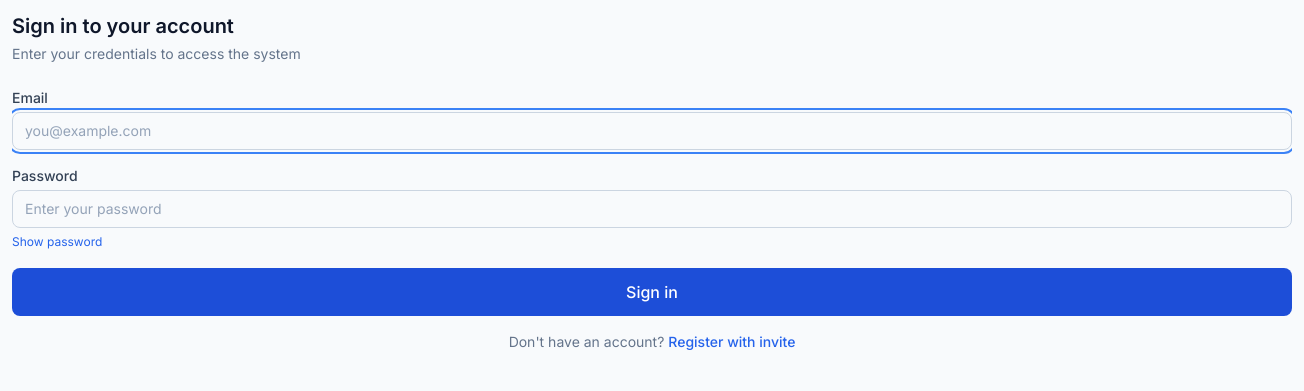
Test: LoginPage › shows validation error for invalid email
Type "not-an-email" into the field labelled "Email" at (652, 131), box [12,112,1292,150]
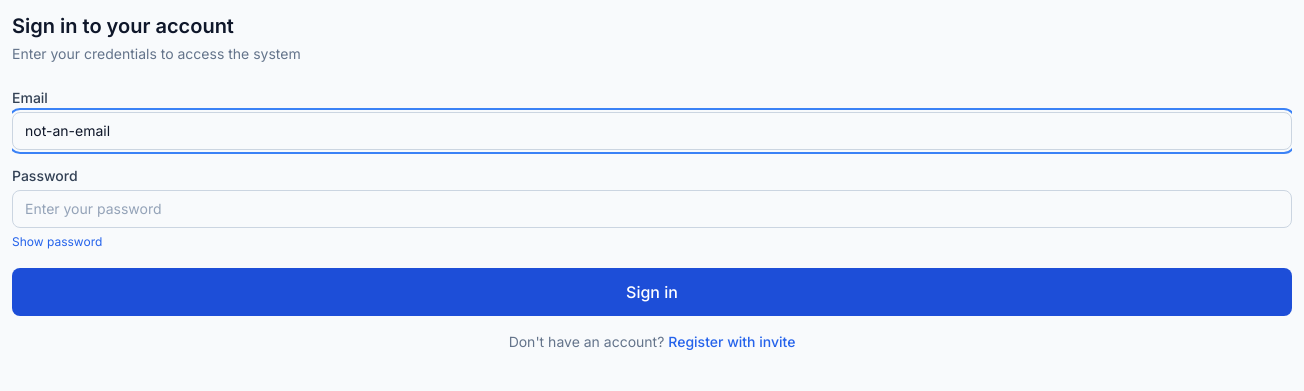
Type "Password1" into the password field labelled "Password" at (652, 209), box [12,190,1292,228]
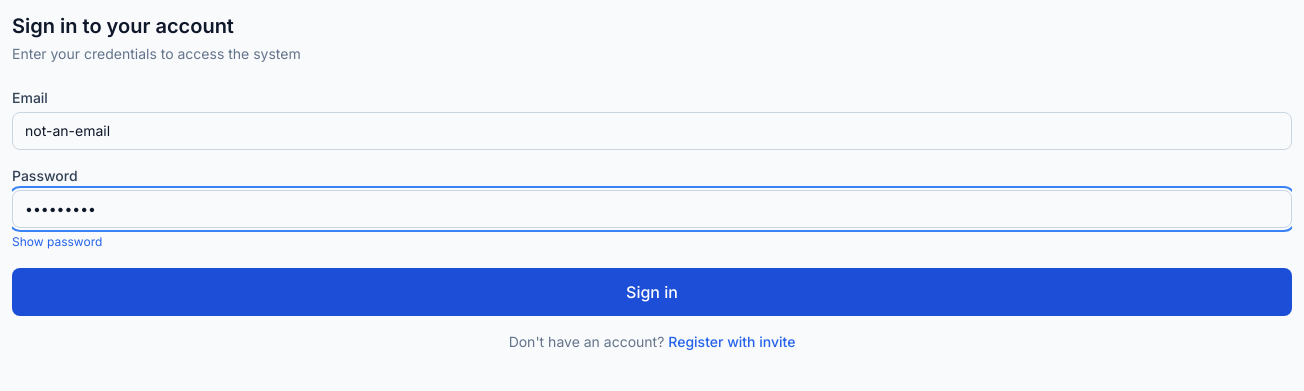
Click the button "Sign in" at (652, 292), box [12,268,1292,316]
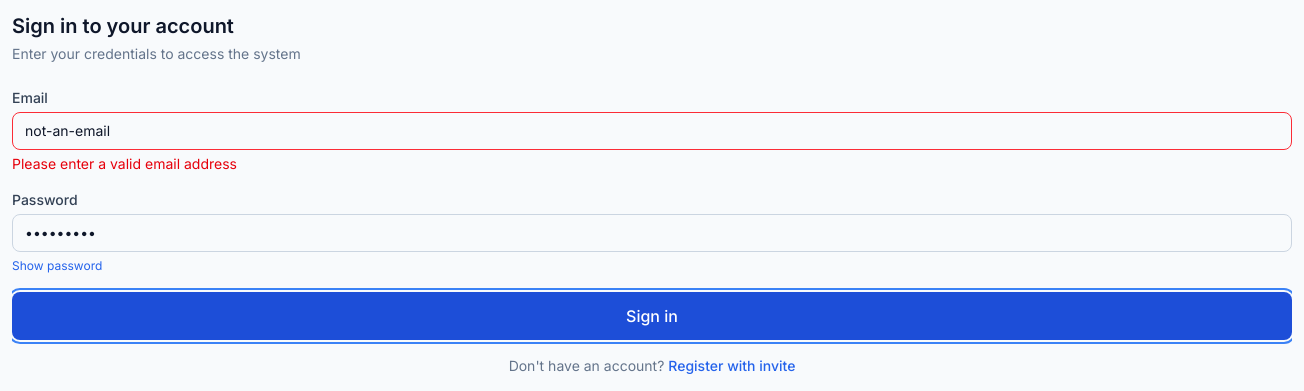
Result: the text "Please enter a valid email address" is shown at [12,155,237,172]
